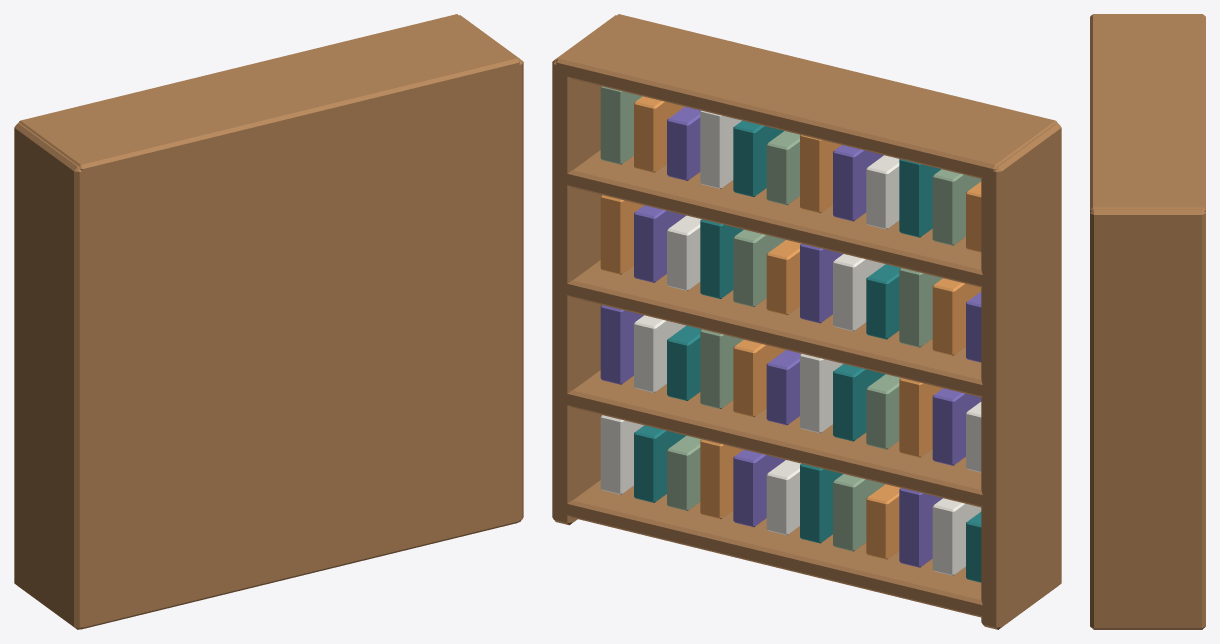
Rendered from SM_Bookshelf.obj.
3 views of the same model, side by side, from view 1: azimuth 30°, elevation 25°; view 2: azimuth 150°, elevation 25°; view 3: azimuth 270°, elevation 25° (orthographic). The views are drawn at different scales.
Parts seen in each view (by area): view 1: SM_Bookshelf; view 2: SM_Bookshelf; view 3: SM_Bookshelf.
Part boxes in pixels (x1,y1,x2,y2): SM_Bookshelf: (14, 14, 523, 629); SM_Bookshelf: (552, 14, 1061, 629); SM_Bookshelf: (1090, 14, 1205, 629).
Size of the model in its own units: 3.25 by 3.21 by 0.8.
